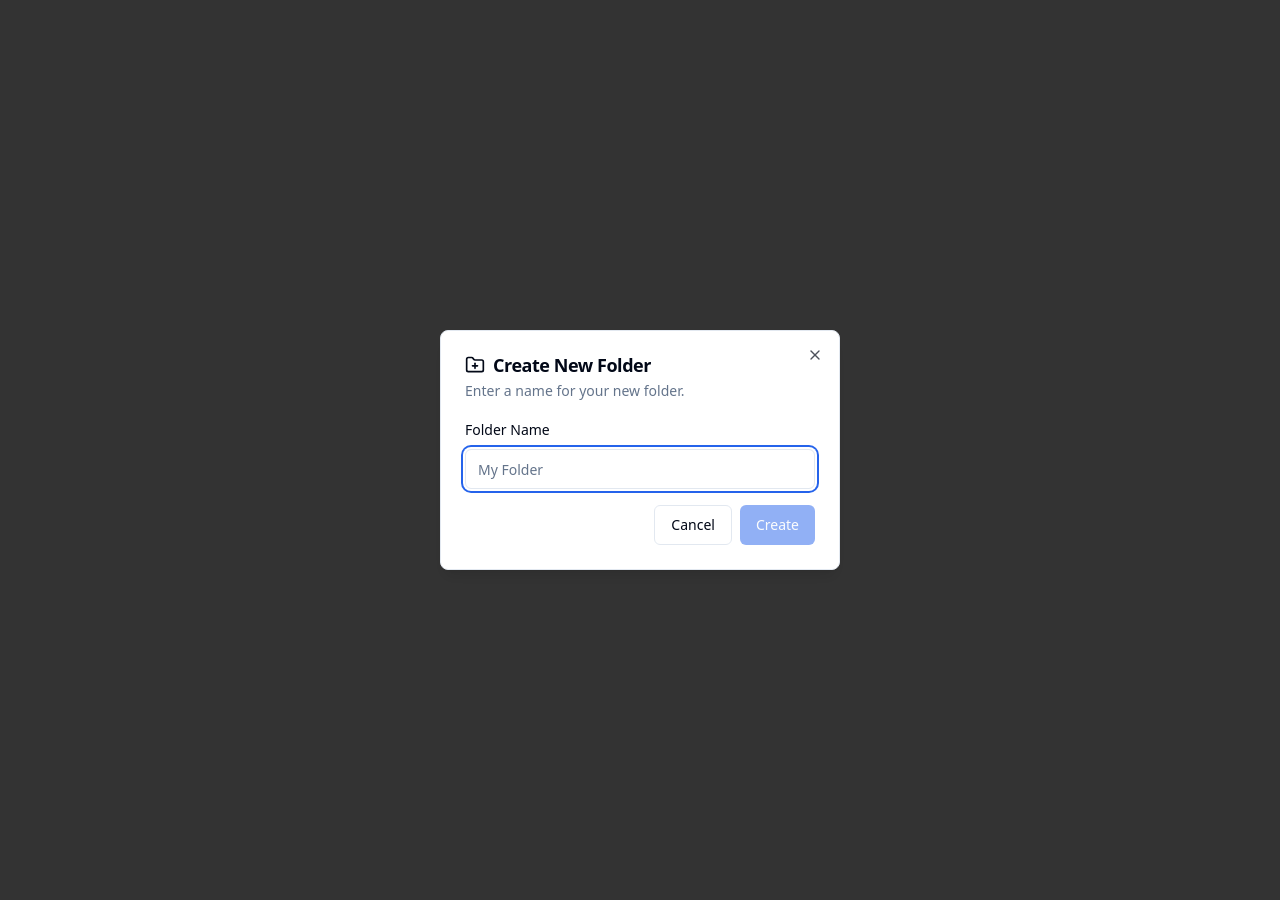
Test: CreateFolderDialog › should show error on creation failure
Type "Existing Folder" into the field labelled "Folder Name". click: {"x": 640, "y": 469}
box: top-left (465, 449), bottom-right (815, 489)
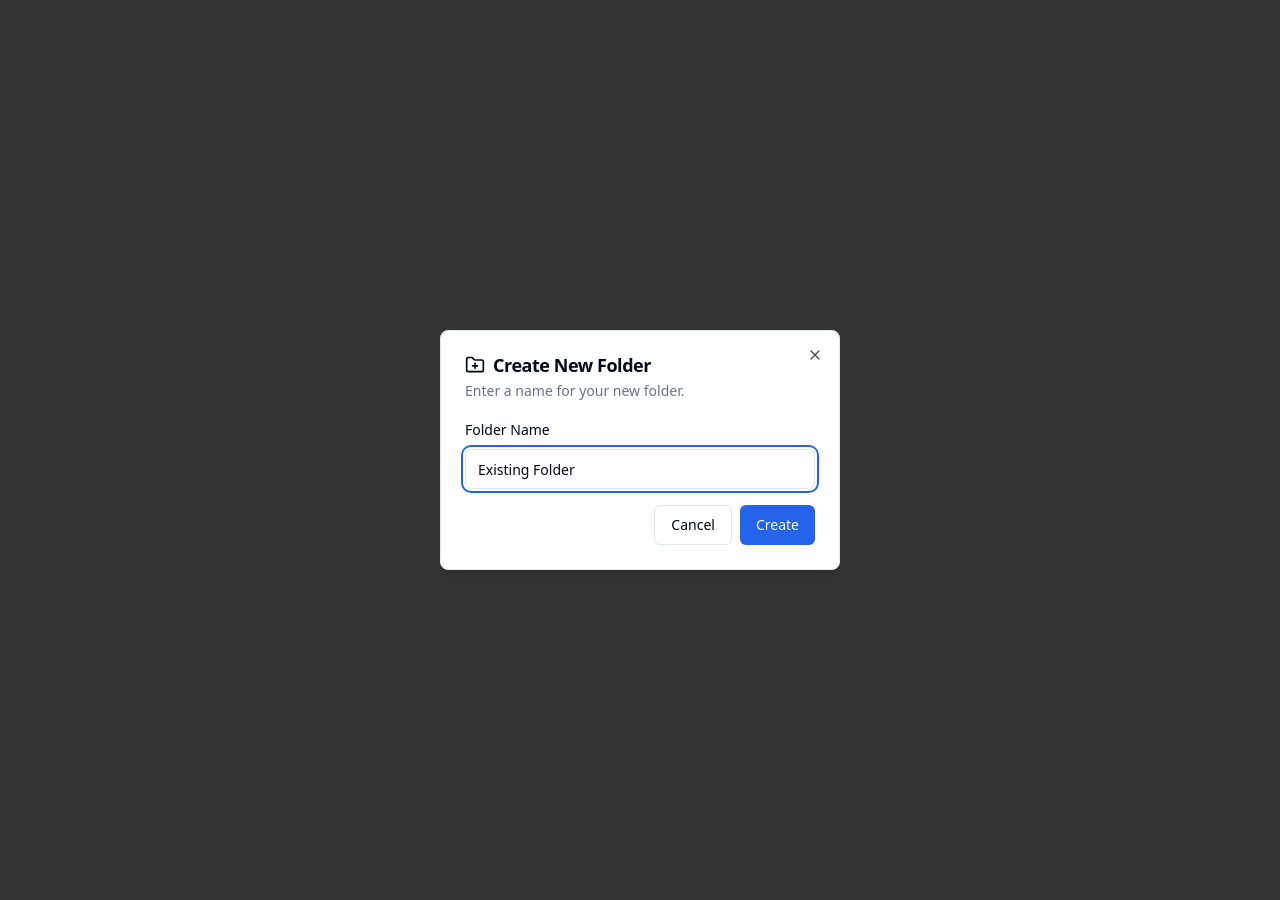
Click the button "Create". click: {"x": 777, "y": 525}
box: top-left (740, 505), bottom-right (815, 545)
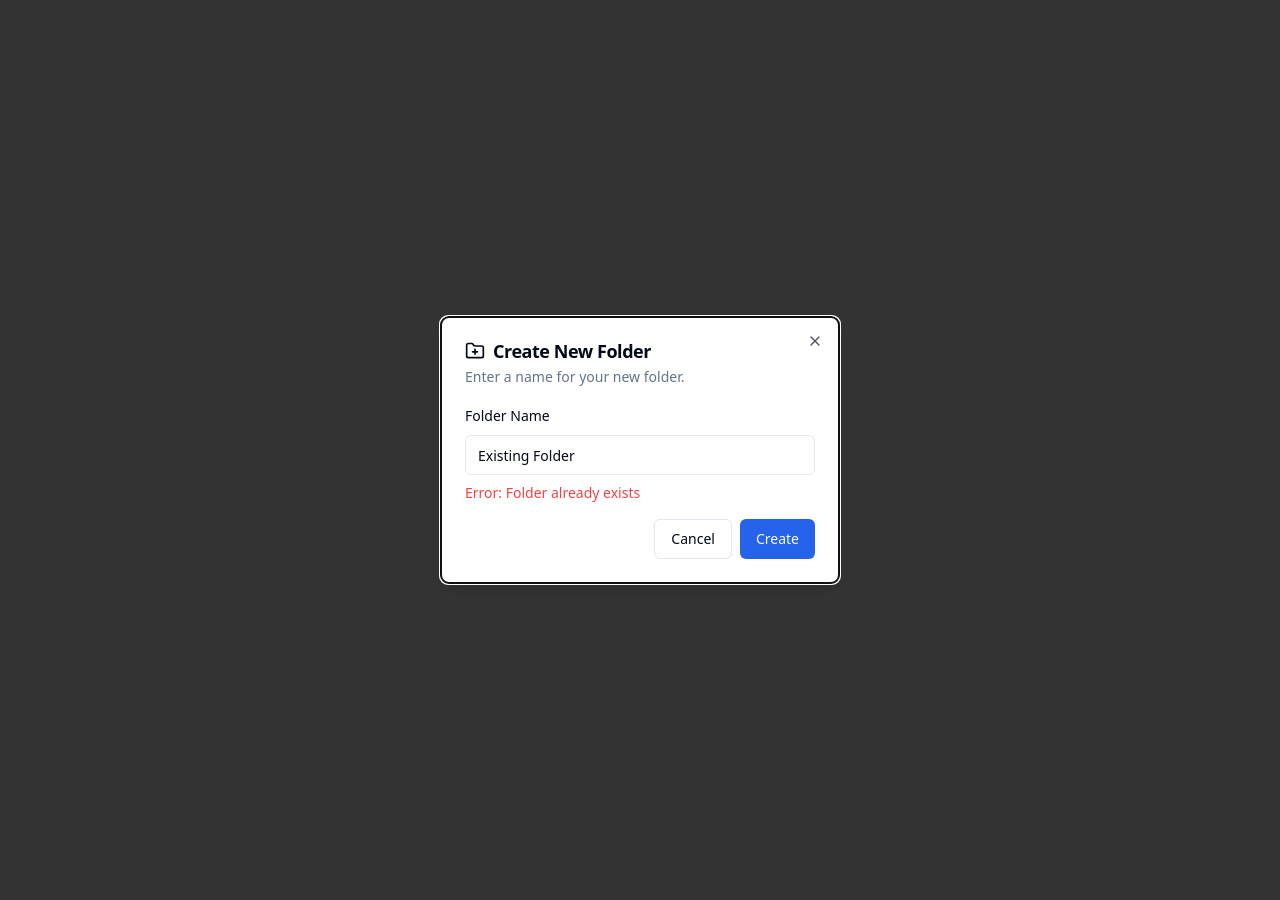
expect the text "Error: Folder already exists" is shown: met, box top-left (465, 483), bottom-right (640, 502)
